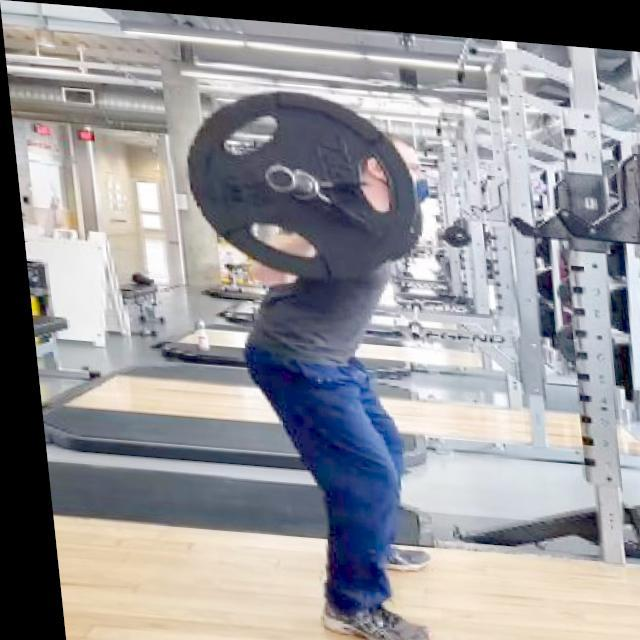barbell: (171, 72, 429, 283)
